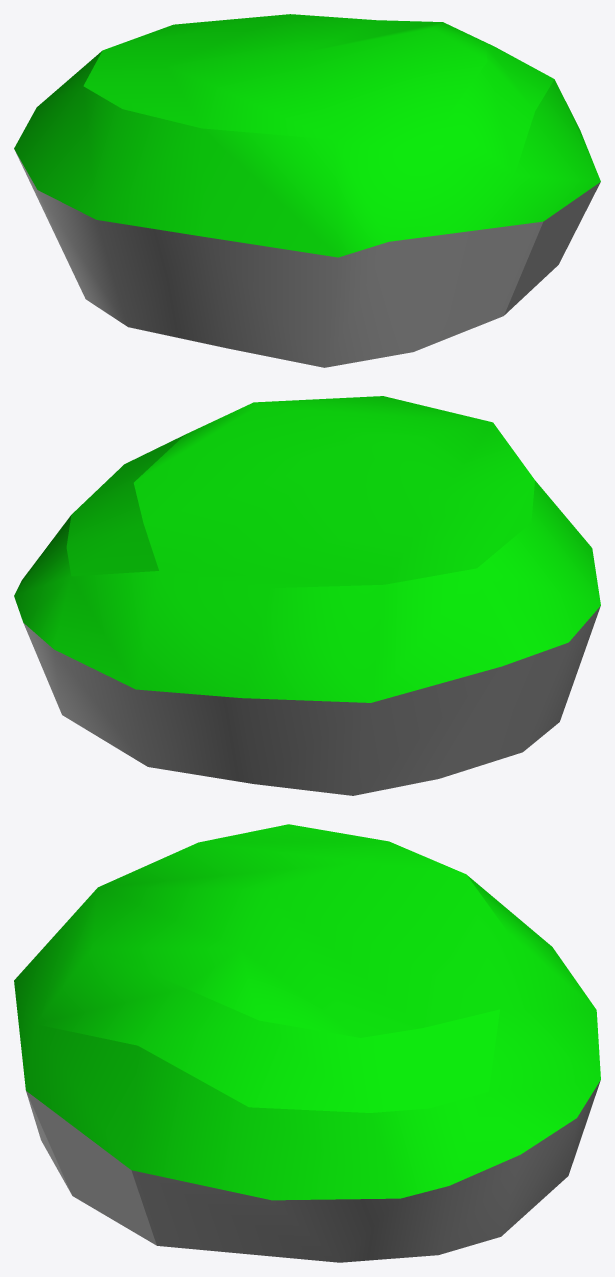
The model's file is rock_gen_round_mini_I.fbx.
The picture shows the model from 3 angles, top to bottom: view 1: azimuth 30°, elevation 25°; view 2: azimuth 150°, elevation 25°; view 3: azimuth 270°, elevation 25°; orthographic projection. The views are drawn at different scales.
Visible parts, largest first — view 1: rock_gen_round_mini_I; view 2: rock_gen_round_mini_I; view 3: rock_gen_round_mini_I.
Boxes of the visible parts, x1,y1,x2,y2 form: rock_gen_round_mini_I: (14, 14, 600, 367); rock_gen_round_mini_I: (14, 396, 600, 795); rock_gen_round_mini_I: (14, 824, 600, 1262).
Size of the model in its own units: 9.9 by 4.25 by 9.03.
